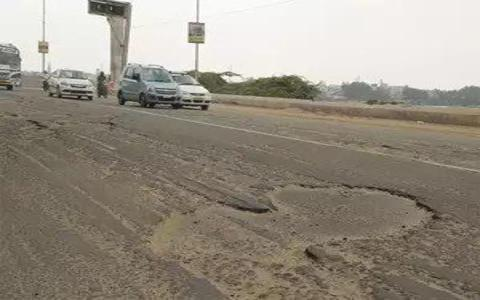patchy roads: (128, 163, 454, 284)
